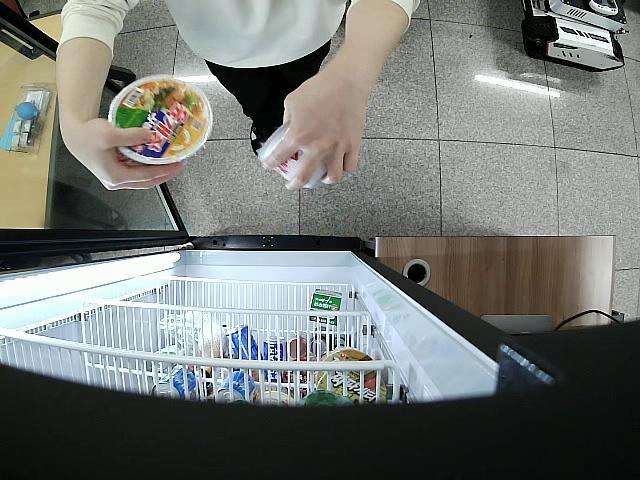09_yukGaeJang: (109, 74, 212, 166), (256, 119, 326, 188)
